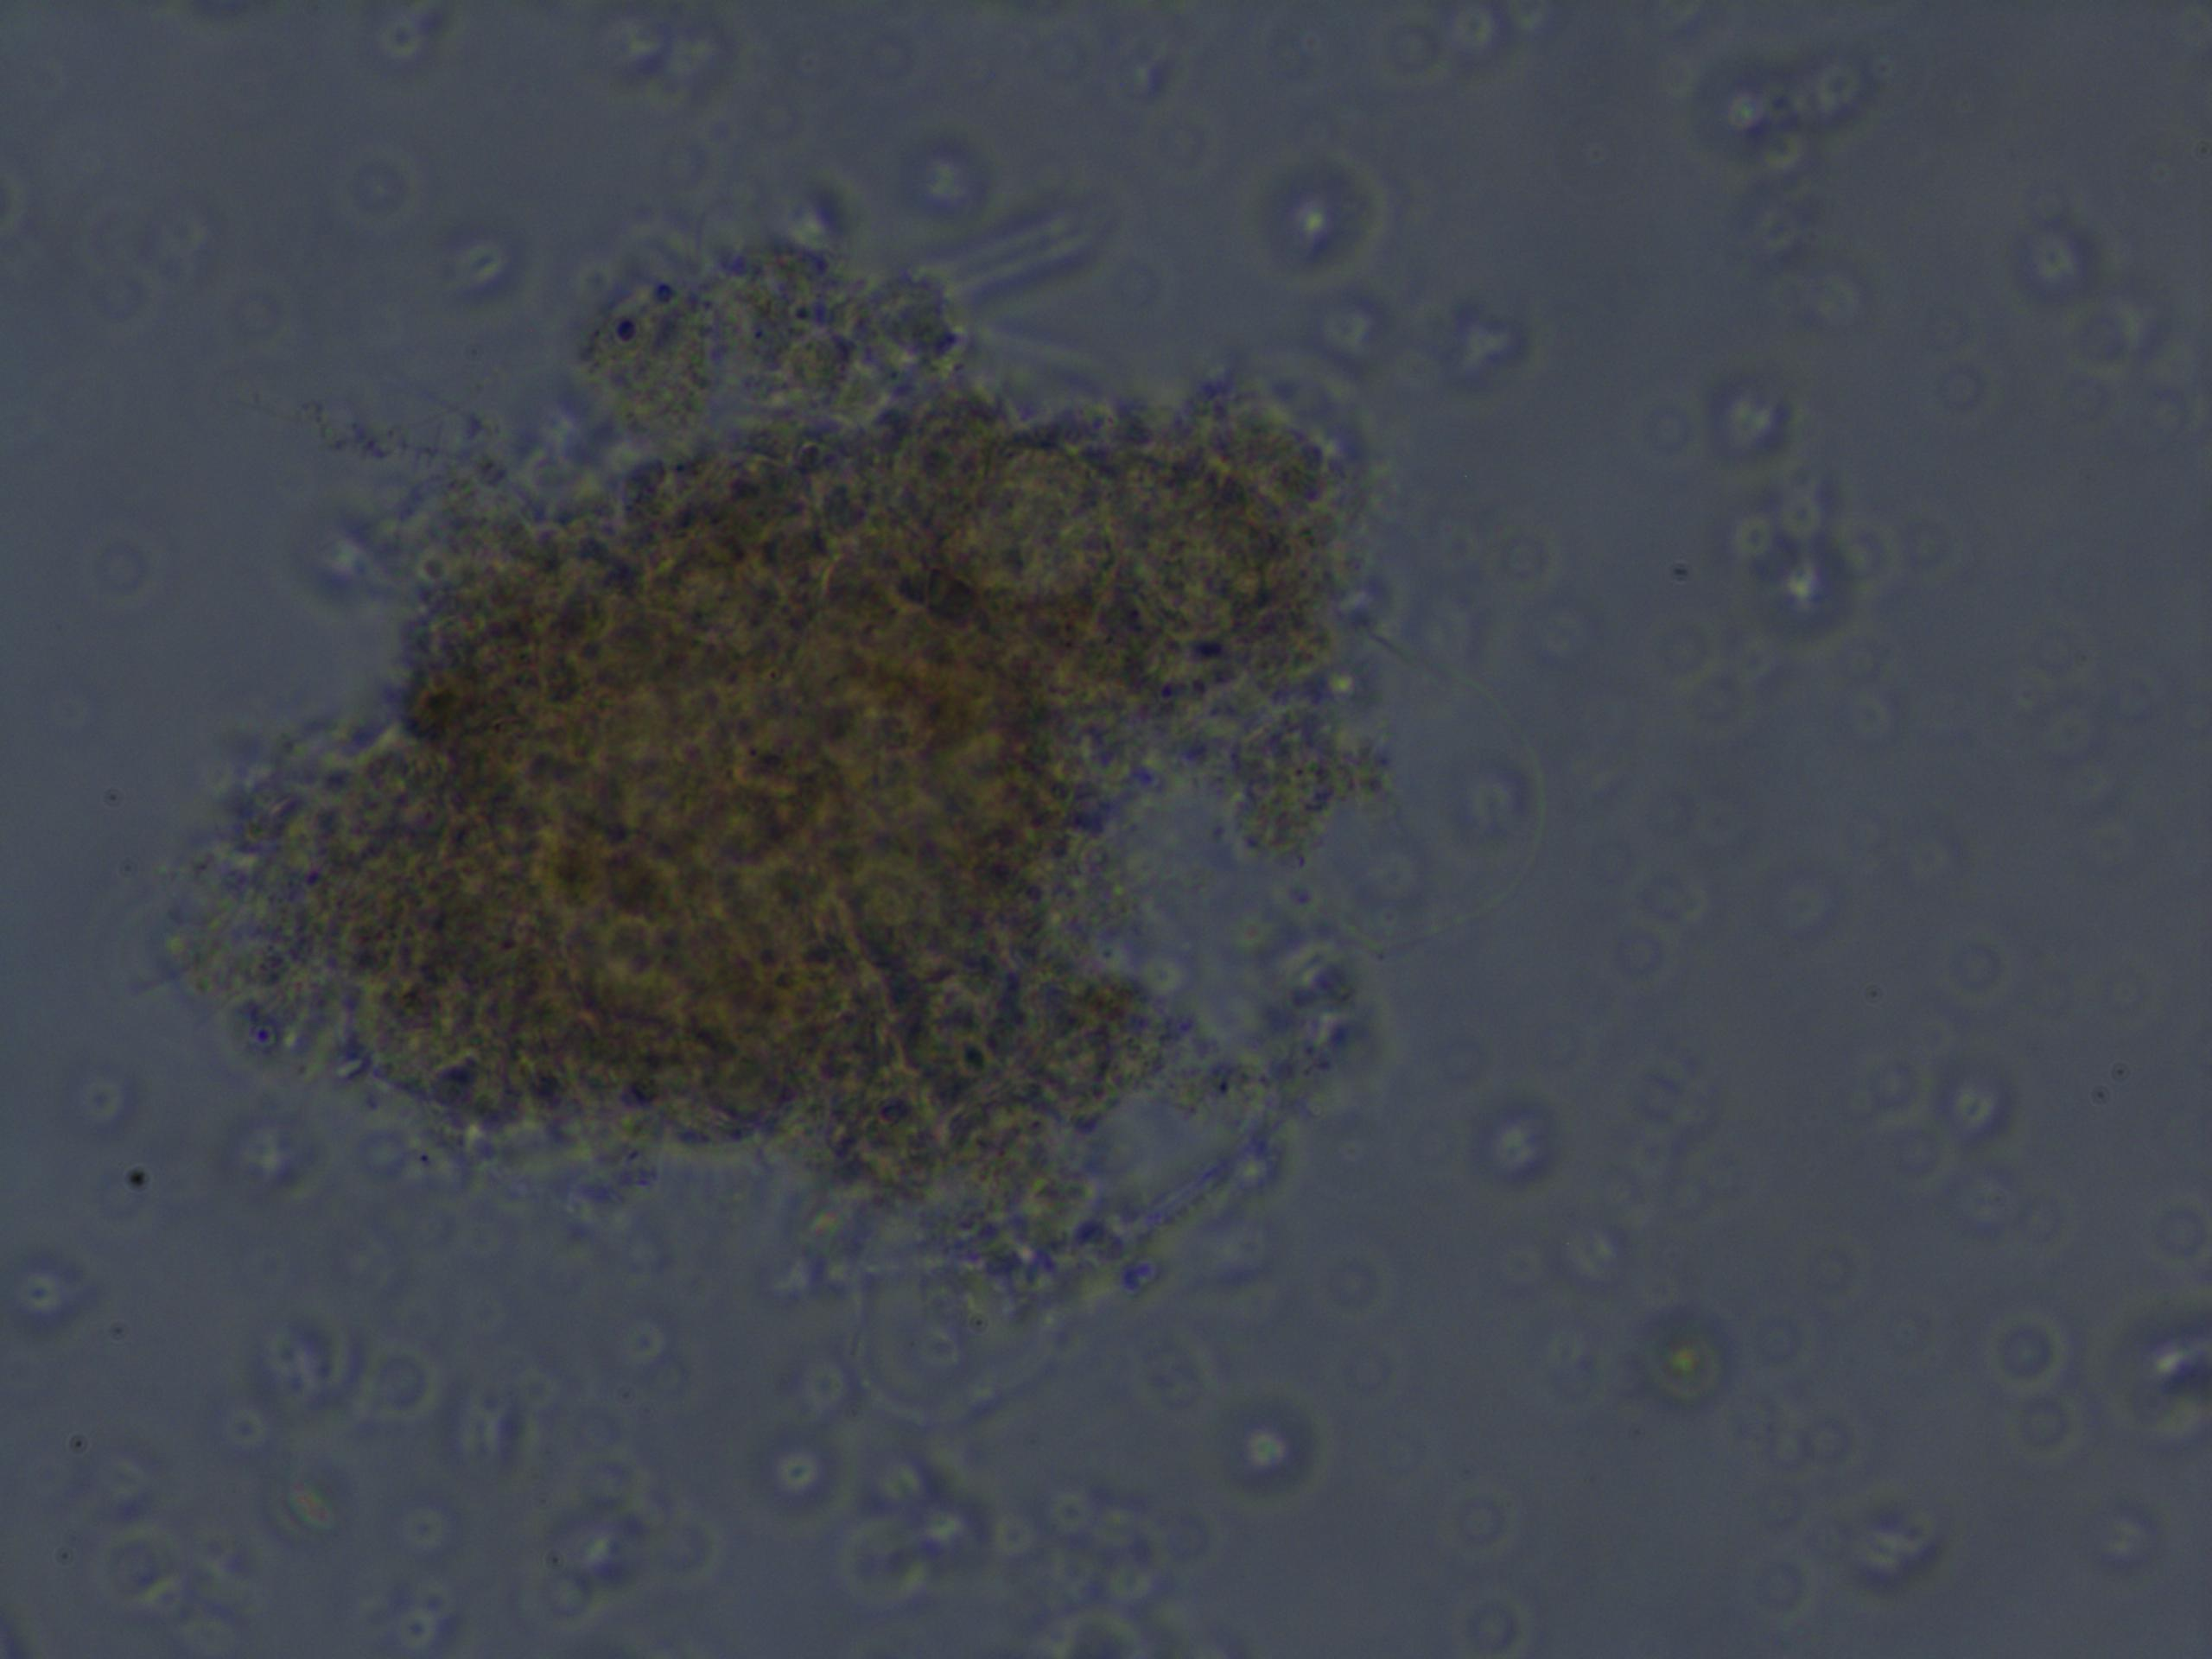spherical_floc: (172, 387, 1376, 1183)
